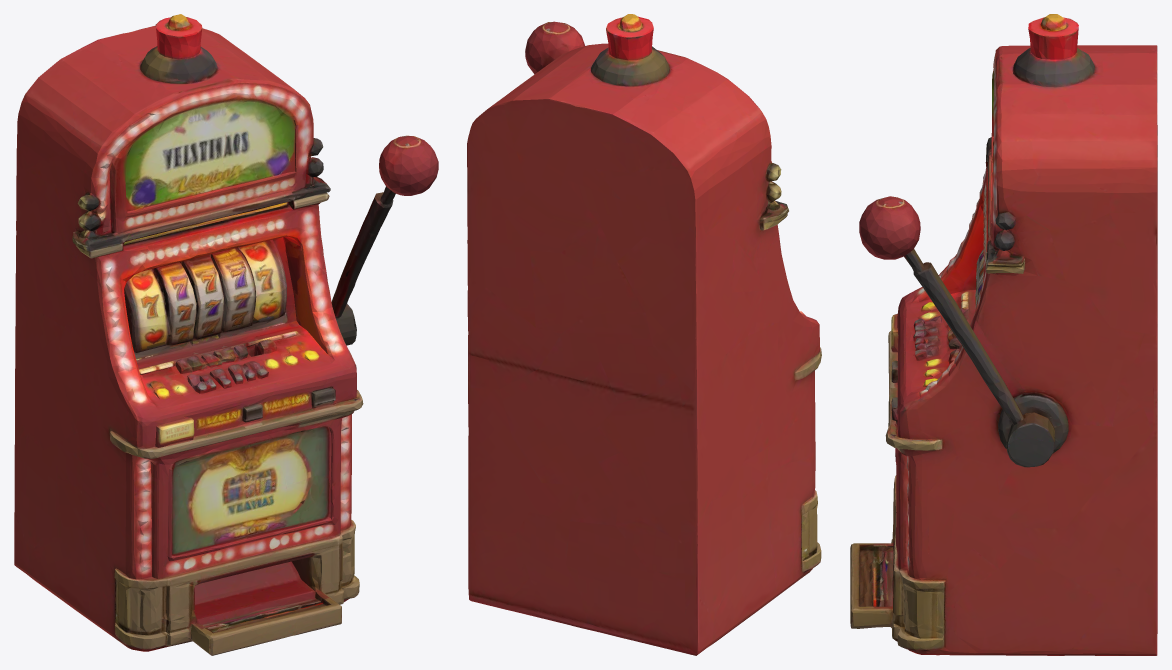
File: skSlot2.glb
The picture shows the model from 3 angles, left to right: view 1: azimuth 30°, elevation 25°; view 2: azimuth 150°, elevation 25°; view 3: azimuth 270°, elevation 25°; orthographic projection. The views are drawn at different scales.
Parts seen in each view (by area): view 1: temp_Material.001_0; view 2: temp_Material.001_0; view 3: temp_Material.001_0.
Part boxes in pixels (left/top/right/bottom): temp_Material.001_0: left=14, top=14, right=438, bottom=655; temp_Material.001_0: left=467, top=14, right=821, bottom=655; temp_Material.001_0: left=850, top=14, right=1157, bottom=655.
Bounding box in the file's own units: 1.13 × 1.99 × 0.9478.
Materials: 1 (1 with a texture image).
